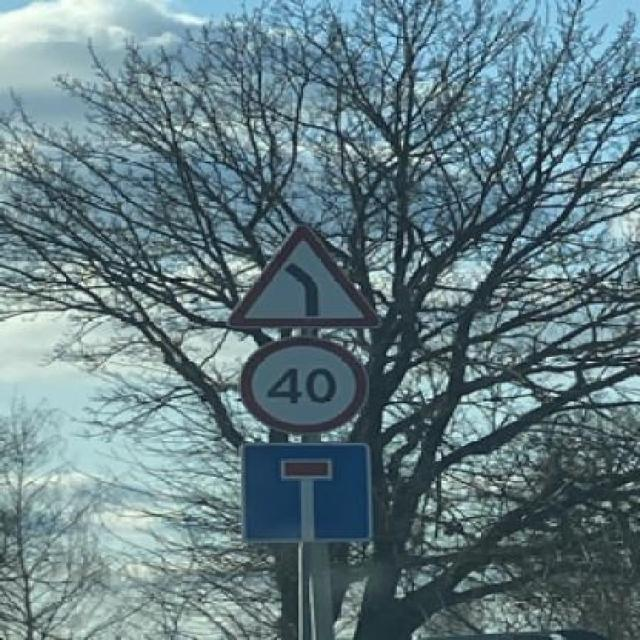forb_speed_over_40: (240, 335, 368, 435)
